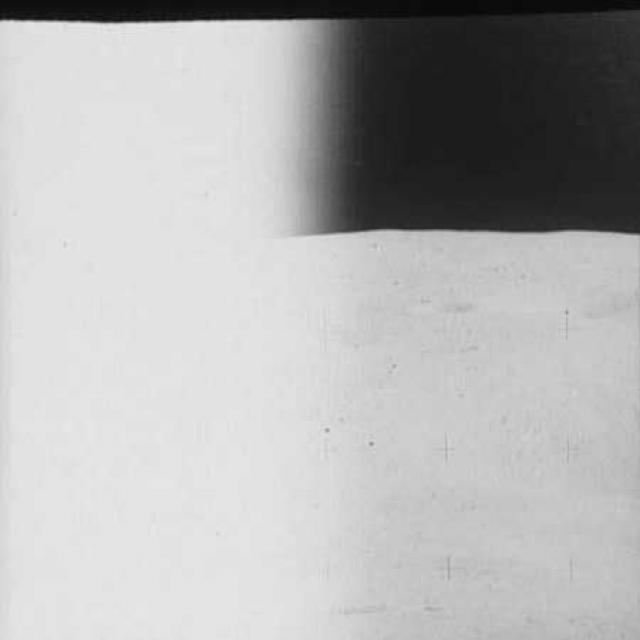crater: (400, 286, 485, 322)
